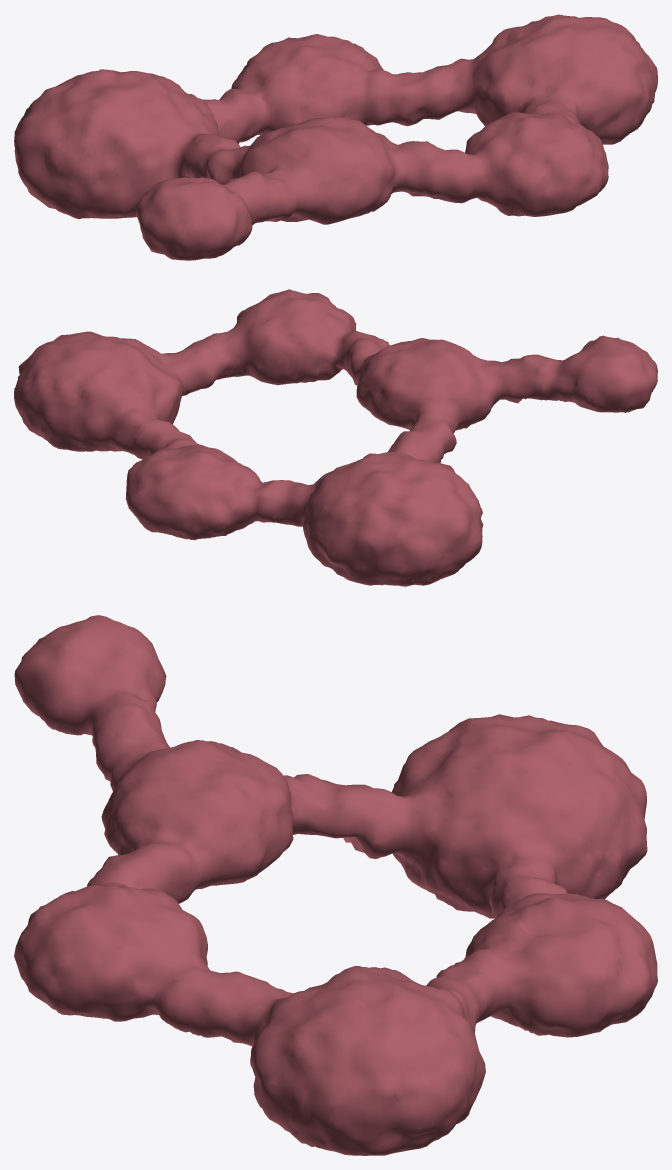
The model's file is cave_f4.glb.
3 renders of one model, top to bottom at view 1: azimuth 30°, elevation 25°; view 2: azimuth 150°, elevation 25°; view 3: azimuth 270°, elevation 25°, orthographic. The views are drawn at different scales.
Visible parts, largest first — view 1: cave_f4; view 2: cave_f4; view 3: cave_f4.
Part boxes in pixels (left/top/right/bottom): cave_f4: left=14, top=14, right=657, bottom=260; cave_f4: left=14, top=289, right=657, bottom=586; cave_f4: left=14, top=615, right=657, bottom=1155.
Size of the model in its own units: 86.7 by 20.31 by 60.22.
